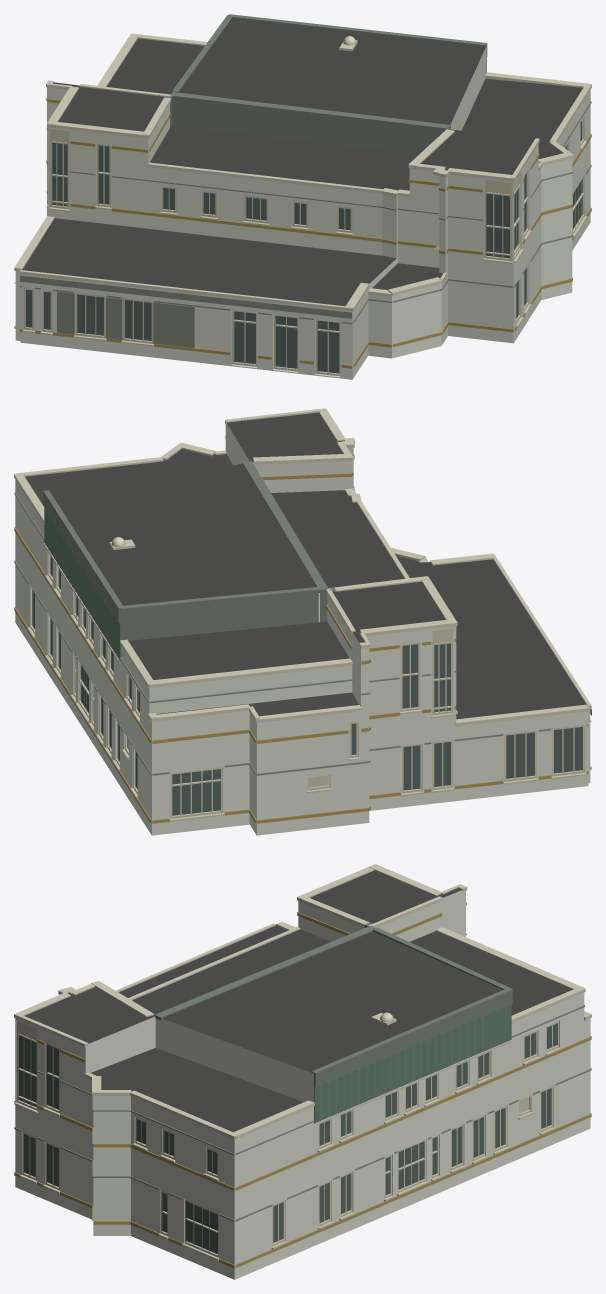
The model's file is witte-boei-wittenburg.glb.
3 renders of one model, top to bottom at view 1: azimuth 30°, elevation 25°; view 2: azimuth 150°, elevation 25°; view 3: azimuth 270°, elevation 25°, orthographic. The views are drawn at different scales.
Visible parts, largest first — view 1: witte-boei-wittenburg; view 2: witte-boei-wittenburg; view 3: witte-boei-wittenburg.
Boxes of the visible parts, x1,y1,x2,y2 form: witte-boei-wittenburg: (14, 14, 591, 379); witte-boei-wittenburg: (14, 408, 591, 835); witte-boei-wittenburg: (14, 864, 591, 1279).
Bounding box in the file's own units: 30.62 × 9.14 × 26.44.
